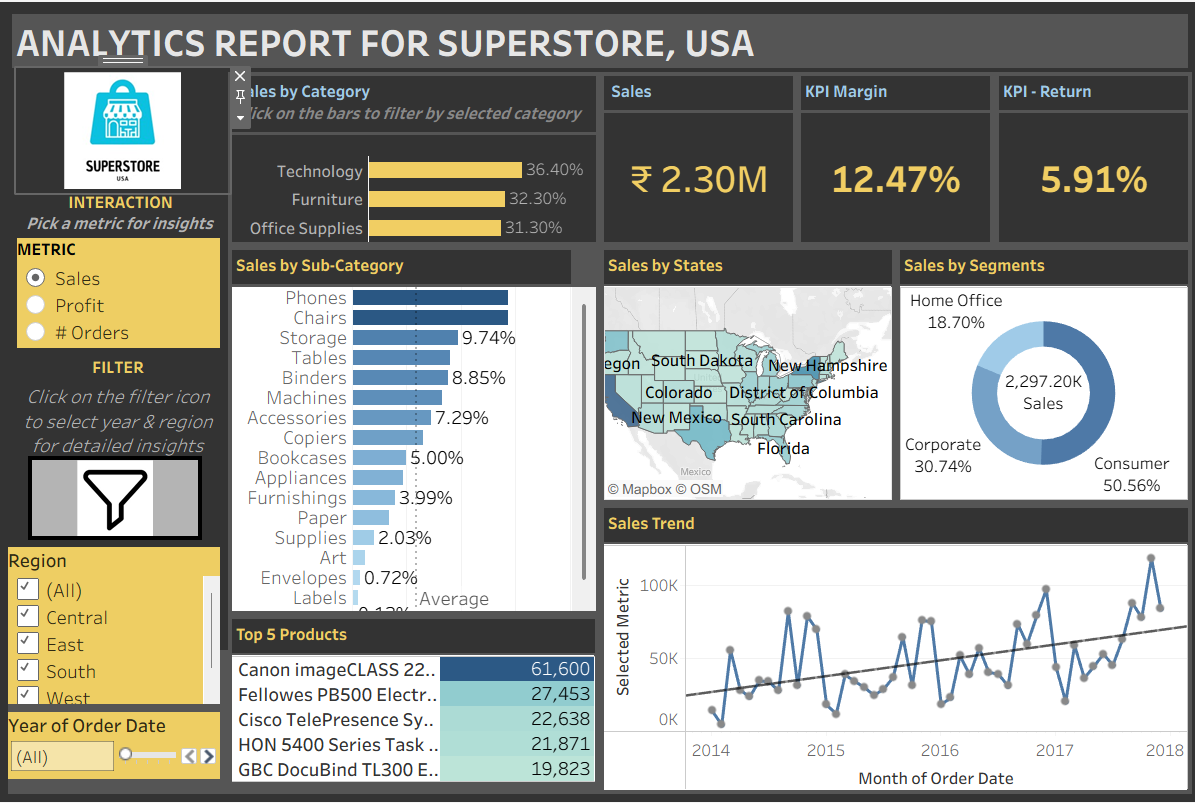

Layout of this report page (visuals, bound fields, positions):
{"tool":"tableau","page":{"name":"SUPERSTORE ANALYTICS DASHBOARD","canvas":[1200,800],"ordinal":2},"visuals":[{"type":"title","box":[8,8,1184,62]},{"type":"image","param":"Image/Picture3.jpg","box":[16,66,214,125]},{"type":"worksheet","title":"Category Chart","mark":"Automatic","rows":["Category"],"cols":["Calculation_1108915739750409"],"box":[228,70,372,174]},{"type":"worksheet","title":"KPI - Main","mark":"Automatic","box":[600,70,197.3,174]},{"type":"worksheet","title":"KPI - Margin","mark":"Automatic","box":[797.3,70,197.3,174]},{"type":"worksheet","title":"KPI - Return","mark":"Automatic","box":[994.7,70,197.3,174]},{"type":"text","box":[60,174,121,52]},{"type":"text","box":[18,195,205,52]},{"type":"parameter","param":"[Parameters].[Parameter 2]","box":[17,236,203,110]},{"type":"worksheet","title":"Sub-Category","mark":"Automatic","rows":["Sub-Category"],"cols":["Calculation_1108915739750409"],"box":[228,244,372,369]},{"type":"worksheet","title":"State","mark":"Multipolygon","box":[600,244,296,258]},{"type":"worksheet","title":"donut","mark":"Pie","rows":["Calculation_0907155698257921","Calculation_0907155698343939"],"box":[896,244,296,258]},{"type":"text","box":[68,350,100,30]},{"type":"text","box":[0,375,237,87]},{"type":"dashboard-object","box":[28,454,174,84]},{"type":"worksheet","title":"Trend Line Chart","mark":"Automatic","rows":["Calculation_1108915739750409","Calculation_1108915739750409"],"cols":["Order Date"],"box":[600,502,592,290]},{"type":"filter","title":"Category Chart","param":"[federated.17kkvk1093kibq18cxdsi0st126b].[none:Region:nk]","box":[4,541,220,165]},{"type":"worksheet","title":"Top 5 Products","mark":"Square","rows":["Product Name"],"box":[228,613,372,179]},{"type":"filter","title":"Category Chart","param":"[federated.17kkvk1093kibq18cxdsi0st126b].[yr:Order Date:ok]","box":[4,706,220,75]}]}

Visuals, with their boxes in screenshot pixels (x1, y1, x2, y2), scaled from the page's 1200x800 canvas onto the 1195x803 screenshot:
title: (left=8, top=8, right=1187, bottom=70)
image: (left=16, top=66, right=229, bottom=192)
"Category Chart" worksheet: (left=227, top=70, right=598, bottom=245)
"KPI - Main" worksheet: (left=598, top=70, right=794, bottom=245)
"KPI - Margin" worksheet: (left=794, top=70, right=990, bottom=245)
"KPI - Return" worksheet: (left=991, top=70, right=1187, bottom=245)
text: (left=60, top=175, right=180, bottom=227)
text: (left=18, top=196, right=222, bottom=248)
parameter: (left=17, top=237, right=219, bottom=347)
"Sub-Category" worksheet: (left=227, top=245, right=598, bottom=615)
"State" worksheet (Multipolygon marks): (left=598, top=245, right=892, bottom=504)
"donut" worksheet (Pie marks): (left=892, top=245, right=1187, bottom=504)
text: (left=68, top=351, right=167, bottom=381)
text: (left=0, top=376, right=236, bottom=464)
dashboard-object: (left=28, top=456, right=201, bottom=540)
"Trend Line Chart" worksheet: (left=598, top=504, right=1187, bottom=795)
"Category Chart" filter: (left=4, top=543, right=223, bottom=709)
"Top 5 Products" worksheet (Square marks): (left=227, top=615, right=598, bottom=795)
"Category Chart" filter: (left=4, top=709, right=223, bottom=784)
